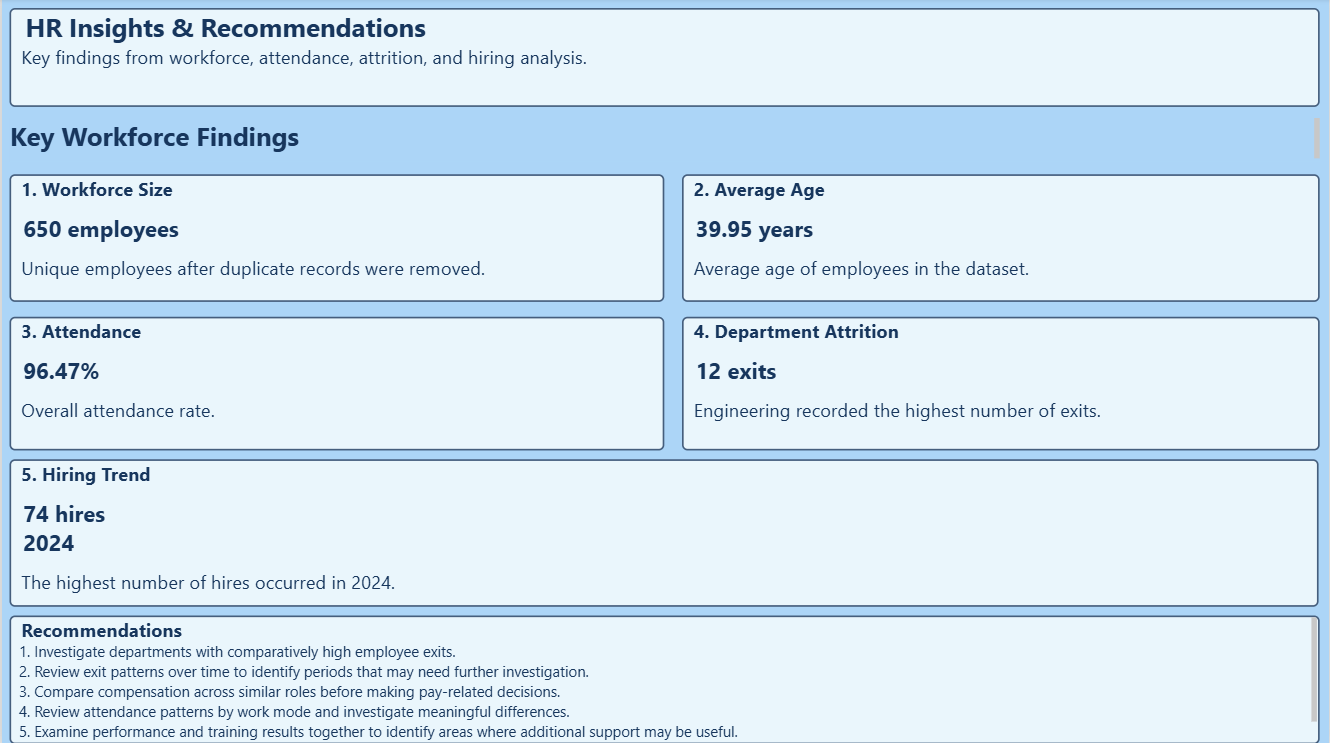

What the dashboard file says about the page in this screenshot:
{"tool":"powerbi","page":{"name":"HR Insights & Recommendations","canvas":[1920,1080],"ordinal":4},"visuals":[{"type":"textbox","box":[10.9,14.5,1896.5,143],"z":0},{"type":"textbox","box":[10.9,173.7,1896.5,63.3],"z":1000},{"type":"textbox","box":[1449,140,300,300],"z":2000},{"type":"textbox","box":[1759,140,161,300],"z":3000},{"type":"textbox","box":[10.9,255.2,948.3,184.6],"z":4000},{"type":"textbox","box":[11.7,668.3,1895,213.3],"z":5000},{"type":"textbox","box":[984.5,255.2,922.9,184.6],"z":6000},{"type":"textbox","box":[10.9,461.5,948.3,193.6],"z":7000},{"type":"textbox","box":[984.5,461.5,922.9,193.6],"z":8000},{"type":"textbox","box":[11.7,893.3,1896.7,186.7],"z":9000}]}

Visuals, with their boxes in screenshot pixels (x1, y1, x2, y2), scaled from the page's 1920x1080 canvas onto the 1330x743 screenshot:
textbox: bbox=(8, 10, 1321, 108)
textbox: bbox=(8, 119, 1321, 163)
textbox: bbox=(1004, 96, 1212, 303)
textbox: bbox=(1218, 96, 1329, 303)
textbox: bbox=(8, 176, 664, 303)
textbox: bbox=(8, 460, 1321, 607)
textbox: bbox=(682, 176, 1321, 303)
textbox: bbox=(8, 317, 664, 451)
textbox: bbox=(682, 317, 1321, 451)
textbox: bbox=(8, 615, 1322, 742)
